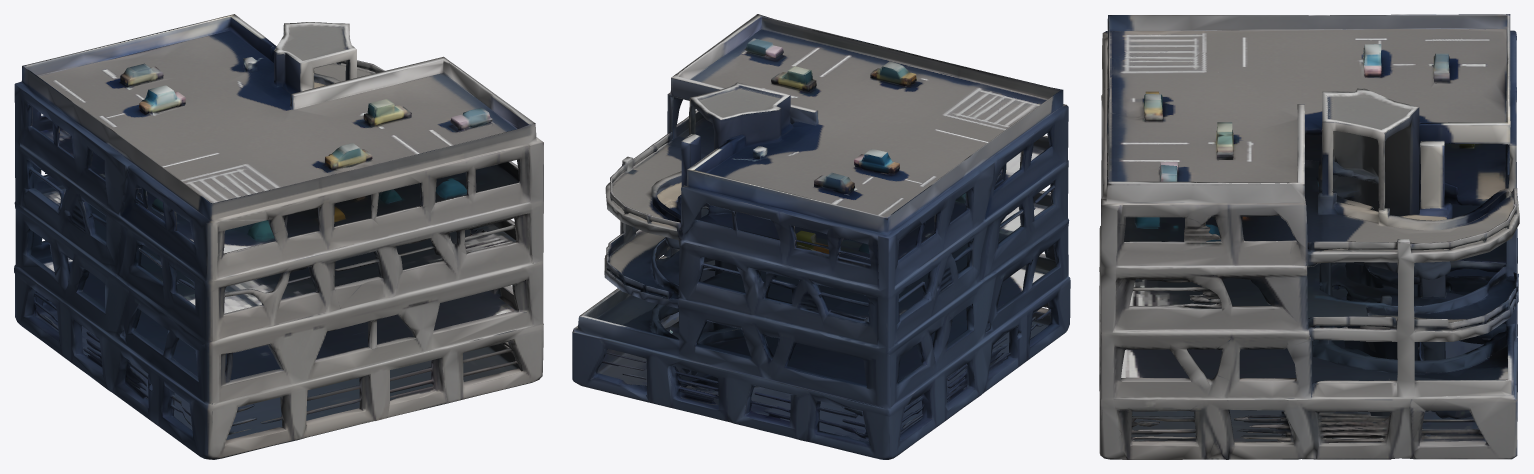
Rendered from parking_structure.glb.
3 views of the same model, side by side, from view 1: azimuth 30°, elevation 25°; view 2: azimuth 150°, elevation 25°; view 3: azimuth 270°, elevation 25° (orthographic). The views are drawn at different scales.
Parts seen in each view (by area): view 1: world; view 2: world; view 3: world.
Boxes of the visible parts, x1,y1,x2,y2 form: world: (14,14,543,459); world: (572,14,1070,459); world: (1099,14,1519,459).
Bounding box in the file's own units: 0.9361 × 0.7296 × 0.94.
1 material, 1 textured.
